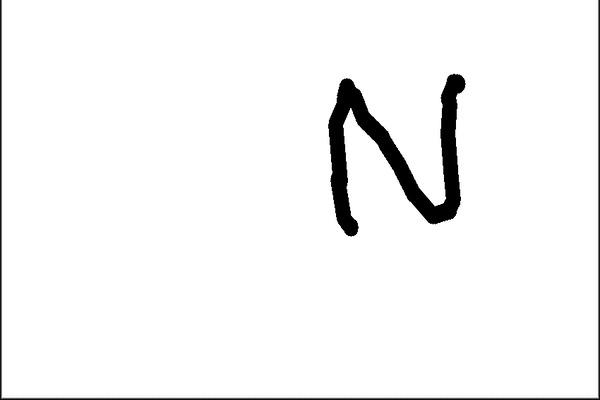N: (321, 70, 470, 247)
